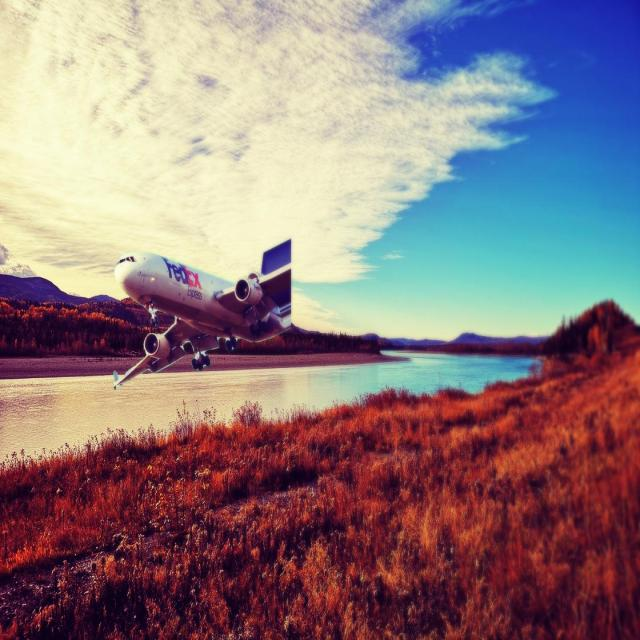airplane: (112, 237, 292, 389)
